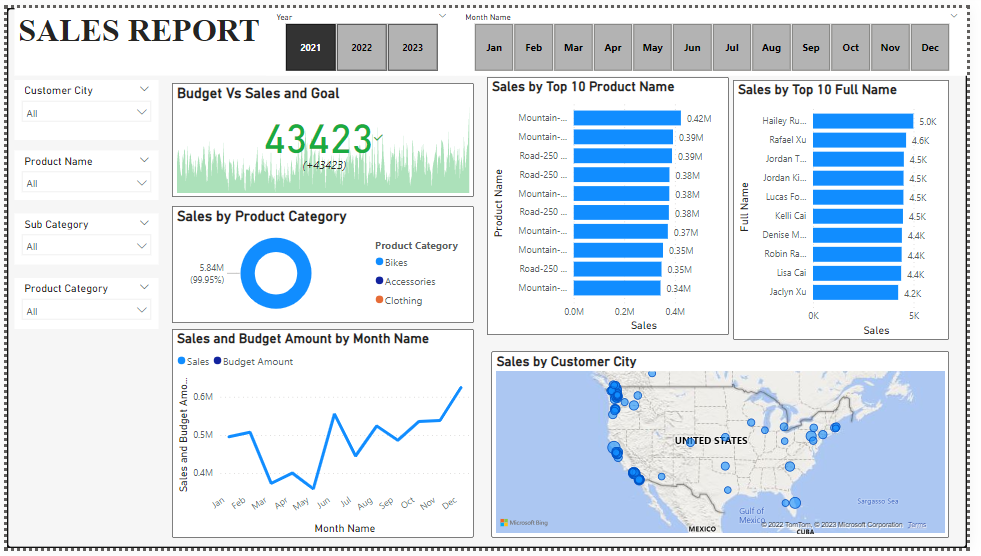

This screenshot's page, from the dashboard's own definition file:
{"tool":"powerbi","page":{"name":"Page 1","canvas":[1280,720],"ordinal":0},"visuals":[{"type":"textbox","box":[10,0,1270,90],"z":0},{"type":"slicer","fields":{"Values":["DIM_Calendar.MonthShort"]},"box":[598,0,682,90],"z":1000},{"type":"slicer","fields":{"Values":["DIM_Customer.Customer City"]},"box":[10,96,192,80],"z":2000},{"type":"slicer","fields":{"Values":["DIM_Product.Product Name"]},"box":[10,190,192,66],"z":3000},{"type":"slicer","fields":{"Values":["DIM_Product.Sub Category"]},"box":[10,274,192,68],"z":4000},{"type":"slicer","fields":{"Values":["DIM_Product.Product Category"]},"box":[10,360,192,68],"z":5000},{"type":"slicer","fields":{"Values":["DIM_Calendar.Year"]},"box":[346,0,252,90],"z":6000},{"type":"kpi","title":"Budget Vs Sales and Goal","fields":{"Indicator":["Fact_Internet_sales.Sales"],"Goal":["Budget.Budget Amount"],"TrendLine":["DIM_Calendar.Date"]},"box":[220,100,402,152],"z":7000},{"type":"donutChart","fields":{"Category":["DIM_Product.Product Category"],"Y":["Fact_Internet_sales.Sales"]},"box":[220,264,402,156],"z":8000},{"type":"lineChart","fields":{"Y":["Fact_Internet_sales.Sales","Budget.Budget Amount"],"Category":["DIM_Calendar.Month Name"]},"box":[220,428,402,278],"z":9000},{"type":"clusteredBarChart","title":"Sales by Top 10 Product Name","fields":{"Y":["Fact_Internet_sales.Sales"],"Category":["DIM_Product.Product Name"]},"box":[640,92,322,344],"z":10000},{"type":"clusteredBarChart","title":"Sales by Top 10 Full Name","fields":{"Category":["DIM_Customer.Full Name"],"Y":["Fact_Internet_sales.Sales"]},"box":[968,96,288,346],"z":11000},{"type":"map","fields":{"Category":["DIM_Customer.Customer City"],"Size":["Fact_Internet_sales.Sales"]},"box":[646,458,610,248],"z":12000}]}

Visuals, with their boxes in screenshot pixels (x1, y1, x2, y2), scaled from the page's 1280x720 canvas onto the 981x556 screenshot:
textbox: <bbox>8, 0, 980, 70</bbox>
slicer - DIM_Calendar.MonthShort: <bbox>458, 0, 980, 70</bbox>
slicer - DIM_Customer.Customer City: <bbox>8, 74, 155, 136</bbox>
slicer - DIM_Product.Product Name: <bbox>8, 147, 155, 198</bbox>
slicer - DIM_Product.Sub Category: <bbox>8, 212, 155, 264</bbox>
slicer - DIM_Product.Product Category: <bbox>8, 278, 155, 331</bbox>
slicer - DIM_Calendar.Year: <bbox>265, 0, 458, 70</bbox>
"Budget Vs Sales and Goal" kpi: <bbox>169, 77, 477, 195</bbox>
donutChart - DIM_Product.Product Category x Fact_Internet_sales.Sales: <bbox>169, 204, 477, 324</bbox>
lineChart - Fact_Internet_sales.Sales x Budget.Budget Amount: <bbox>169, 331, 477, 545</bbox>
"Sales by Top 10 Product Name" clusteredBarChart: <bbox>490, 71, 737, 337</bbox>
"Sales by Top 10 Full Name" clusteredBarChart: <bbox>742, 74, 963, 341</bbox>
map - DIM_Customer.Customer City x Fact_Internet_sales.Sales: <bbox>495, 354, 963, 545</bbox>
